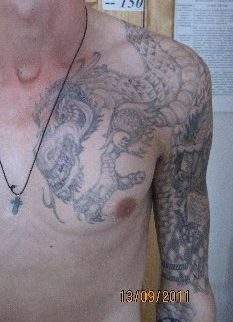tatu6_drakon: (31, 20, 210, 228)
